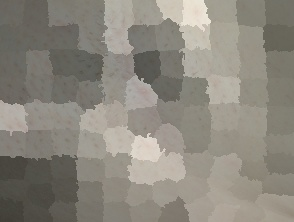vitiligo: (0, 0, 209, 205)
